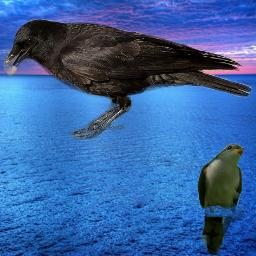Crow: (0, 18, 252, 140)
Cuckoo: (197, 143, 245, 255)
